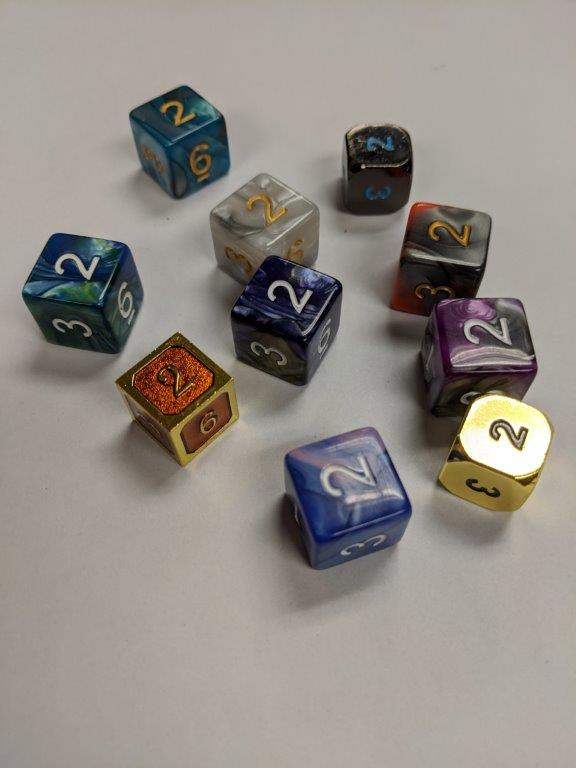d6-2: (284, 426, 411, 567), (115, 333, 242, 463), (430, 393, 550, 520), (22, 231, 144, 354), (230, 255, 340, 389), (413, 299, 537, 414), (126, 78, 231, 202), (205, 172, 323, 277), (387, 203, 492, 308), (345, 123, 414, 209)
